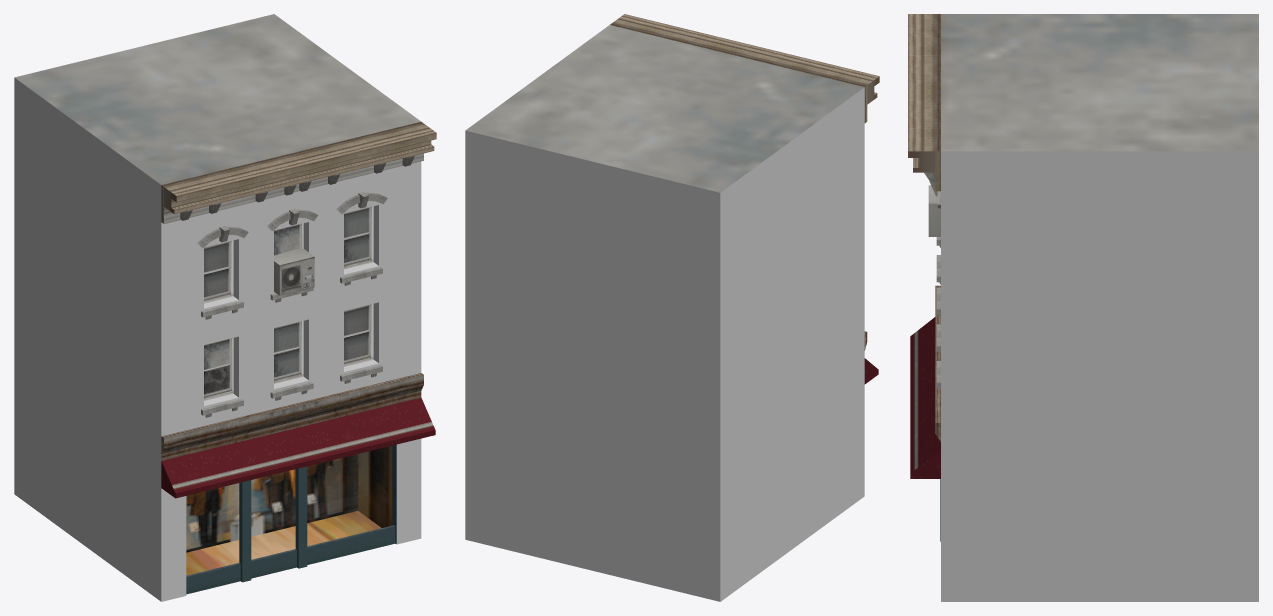
File: Building_A.fbx
3 renders of one model, left to right at view 1: azimuth 30°, elevation 25°; view 2: azimuth 150°, elevation 25°; view 3: azimuth 270°, elevation 25°, orthographic. The views are drawn at different scales.
Parts seen in each view (by area): view 1: City_Market_01:Building A003; view 2: City_Market_01:Building A003; view 3: City_Market_01:Building A003.
Boxes of the visible parts, box(x1,y1,x2,y2) form: City_Market_01:Building A003: box(14, 14, 436, 601); City_Market_01:Building A003: box(465, 14, 879, 601); City_Market_01:Building A003: box(908, 14, 1258, 601).
Size of the model in its own units: 5.32 by 8.16 by 5.75.
